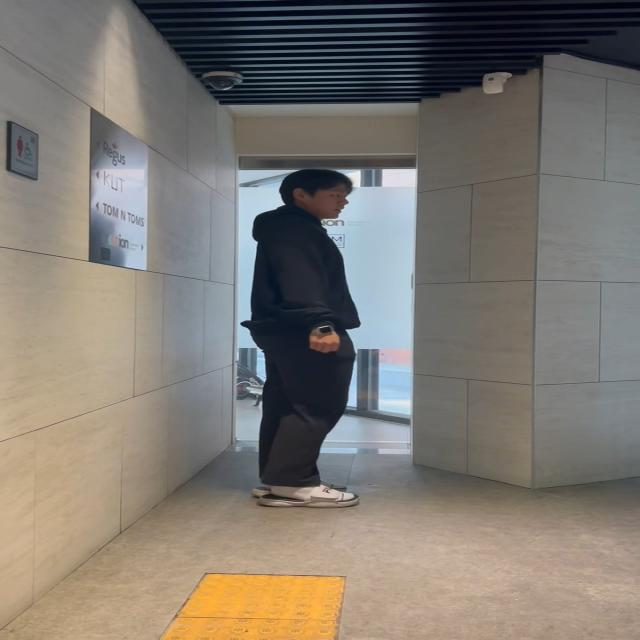leg: (266, 328, 356, 508)
